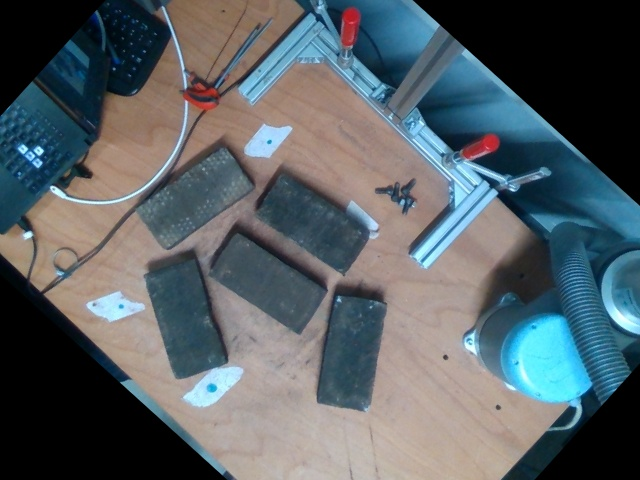brick: (253, 174, 371, 274), (211, 234, 322, 330), (139, 150, 249, 246), (144, 262, 220, 373), (319, 294, 382, 411)
